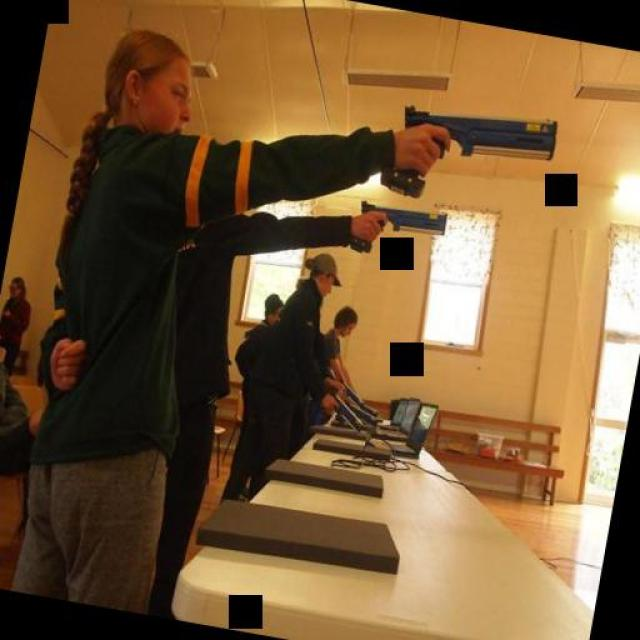gun: (366, 85, 565, 221), (345, 191, 451, 270)
